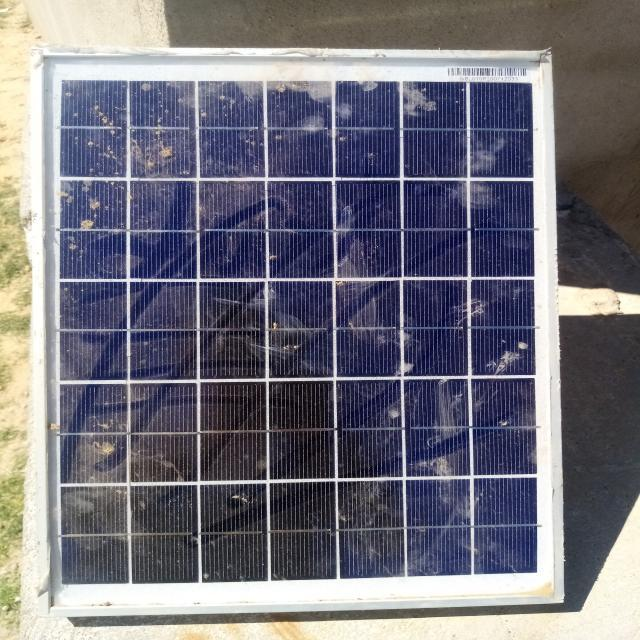faulty: (33, 54, 556, 612)
